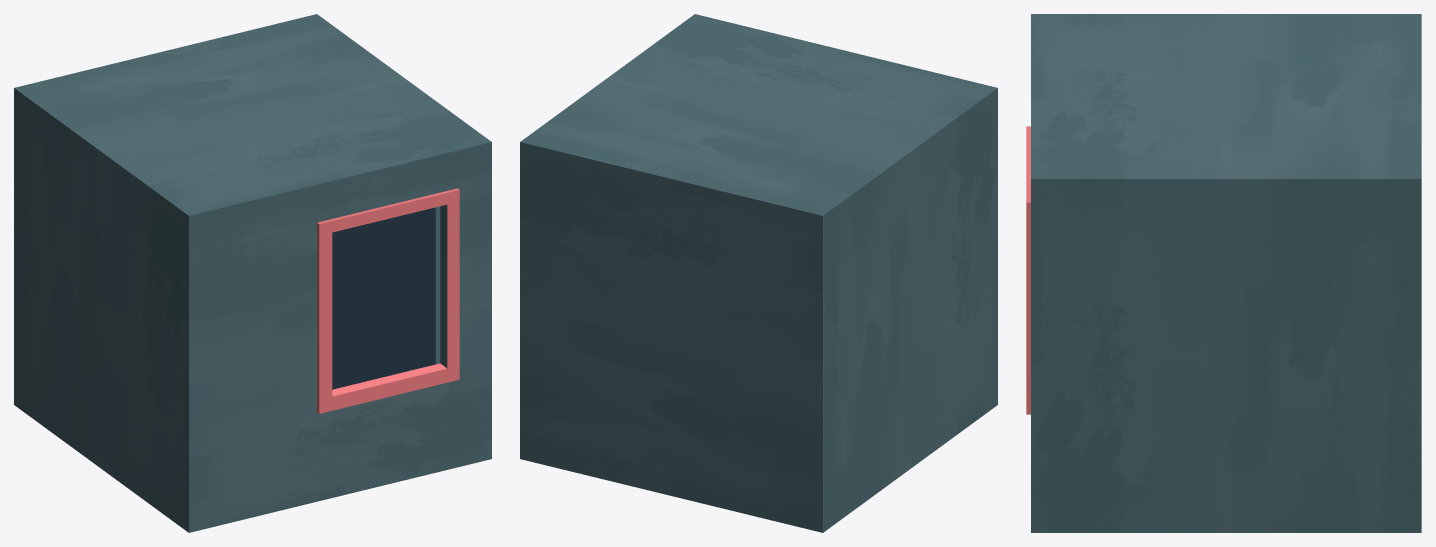
File: m_block_one_window.FBX
3 renders of one model, left to right at view 1: azimuth 30°, elevation 25°; view 2: azimuth 150°, elevation 25°; view 3: azimuth 270°, elevation 25°, orthographic. The views are drawn at different scales.
Visible parts, largest first — view 1: block_window; view 2: block_window; view 3: block_window.
Boxes of the visible parts, <box> form: block_window: <box>14,14,491,532</box>; block_window: <box>520,14,997,532</box>; block_window: <box>1026,14,1421,532</box>.
Size of the model in its own units: 100 by 100 by 101.
